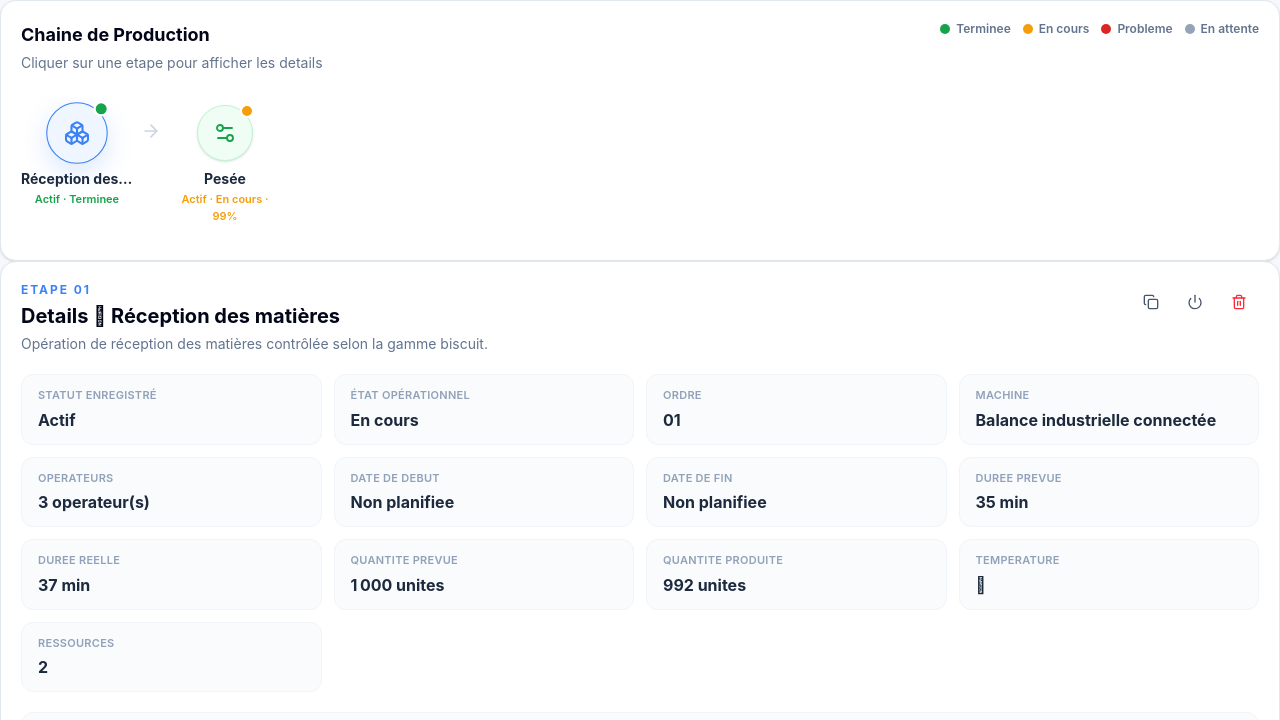
Test case: configuration de production › affiche la chaine responsive avec des couleurs distinctes et une selection
This screenshot has width=1280, height=720.
Expected: the heading "Chaine de Production" is shown, [21,24,210,45]
Expected: the heading "Details  Réception des matières" is shown, [21,304,340,328]
Click the button "Pesée Actif · En cours · 99%" at (225, 164), box [169,97,281,232]
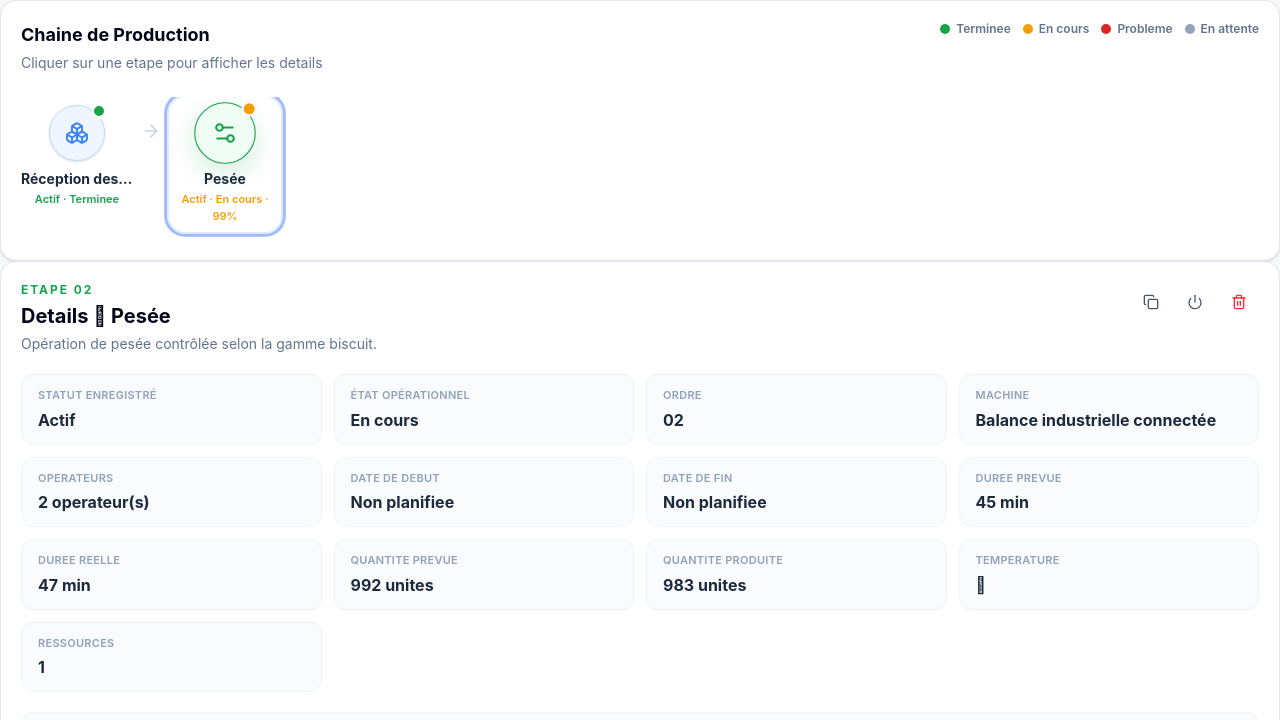
Now the heading "Details  Pesée" is shown, box [21,304,171,328]
